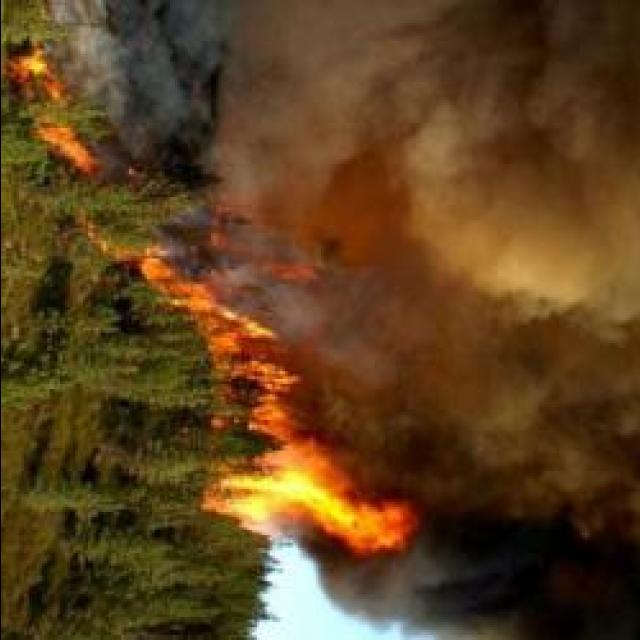fire: (246, 471, 404, 640)
smoke: (80, 0, 278, 154), (346, 3, 468, 205), (458, 374, 640, 509), (440, 218, 640, 338), (520, 2, 636, 158), (425, 525, 576, 640), (51, 0, 113, 74), (276, 279, 328, 332)
